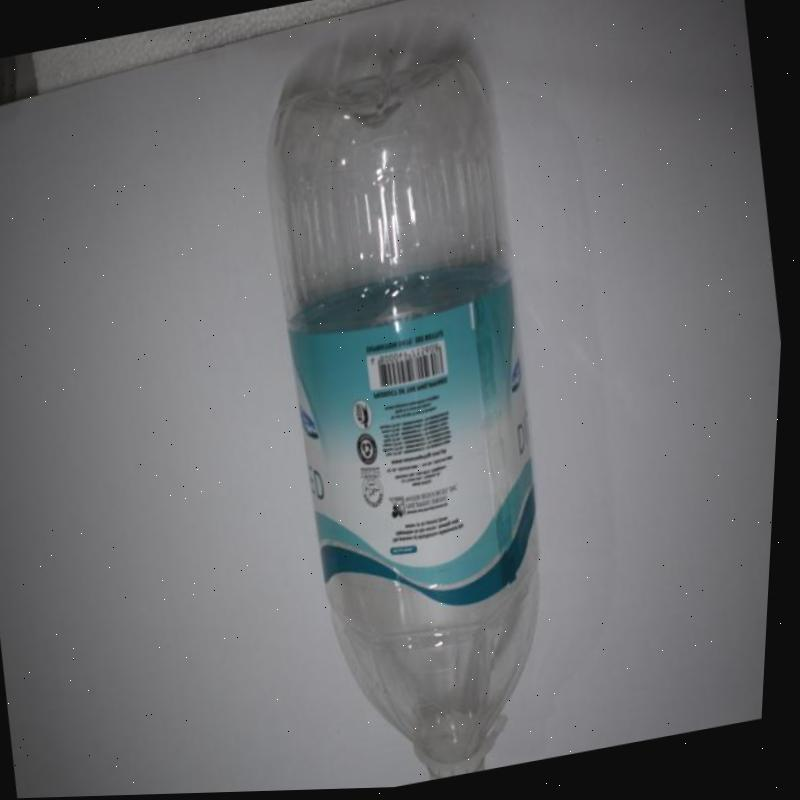botella: (228, 44, 598, 794)
